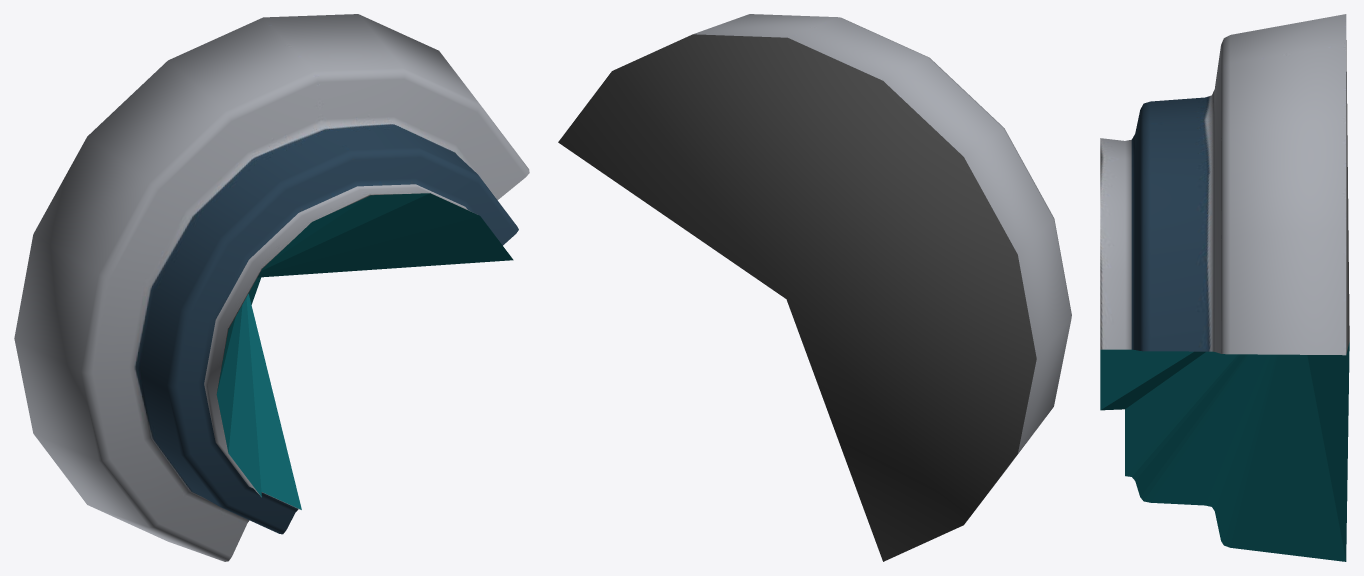
Rendered from Assist_danqiping01_sunhuai.FBX.
3 renders of one model, left to right at view 1: azimuth 30°, elevation 25°; view 2: azimuth 150°, elevation 25°; view 3: azimuth 270°, elevation 25°, orthographic. The views are drawn at different scales.
Parts seen in each view (by area): view 1: Assist_danqiping01_sunhuai; view 2: Assist_danqiping01_sunhuai; view 3: Assist_danqiping01_sunhuai.
Part boxes in pixels (x1,y1,x2,y2): Assist_danqiping01_sunhuai: (14, 14, 529, 561); Assist_danqiping01_sunhuai: (558, 14, 1071, 561); Assist_danqiping01_sunhuai: (1100, 14, 1349, 561).
Size of the model in its own units: 0.6897 by 0.6897 by 0.2731.
Materials: 1 (1 with a texture image).
